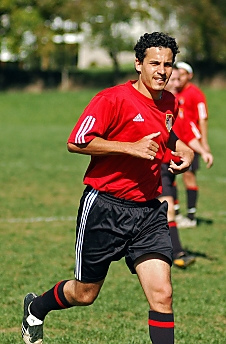person: (21, 31, 184, 344)
